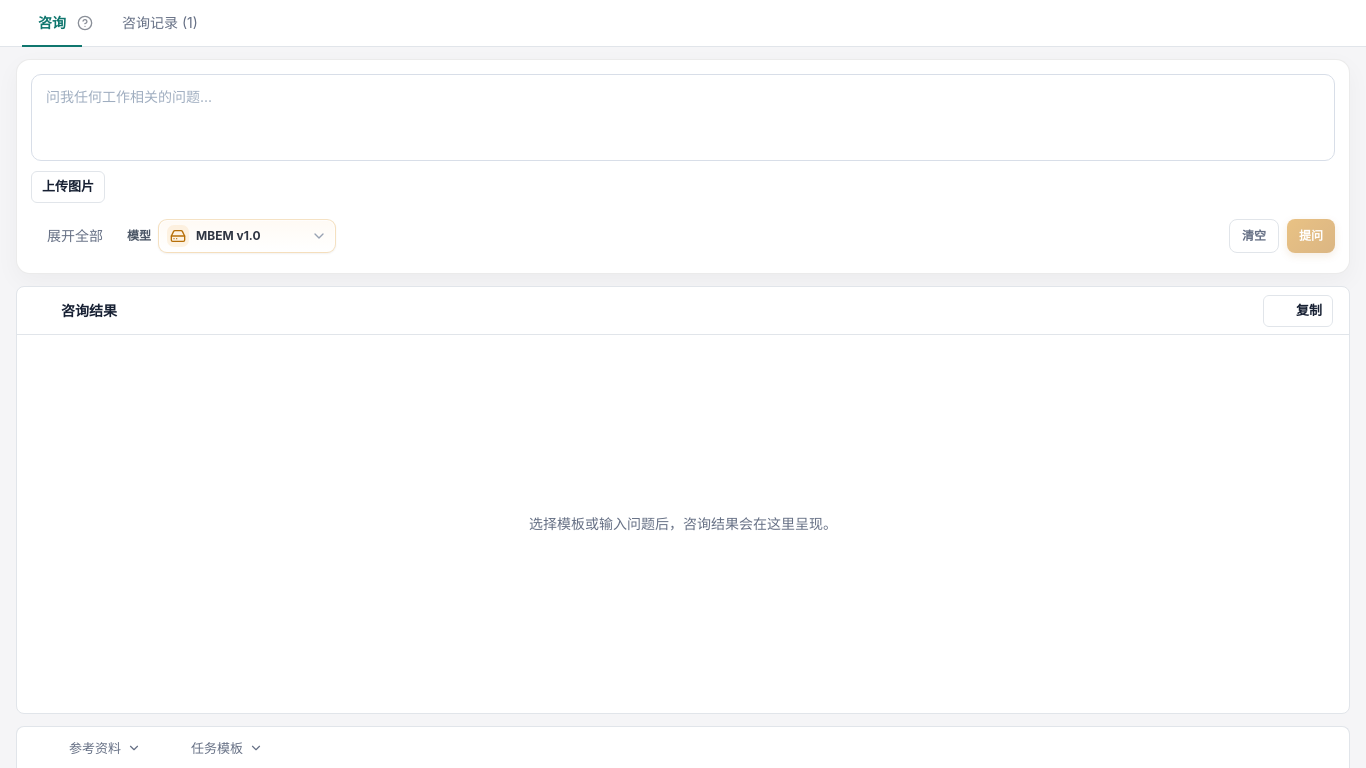
Scenario: 咨询历史截图 › 其他读取错误不误报文件丢失
Click the button "咨询记录 (1)" at (160, 24), box [106,0,214,47]
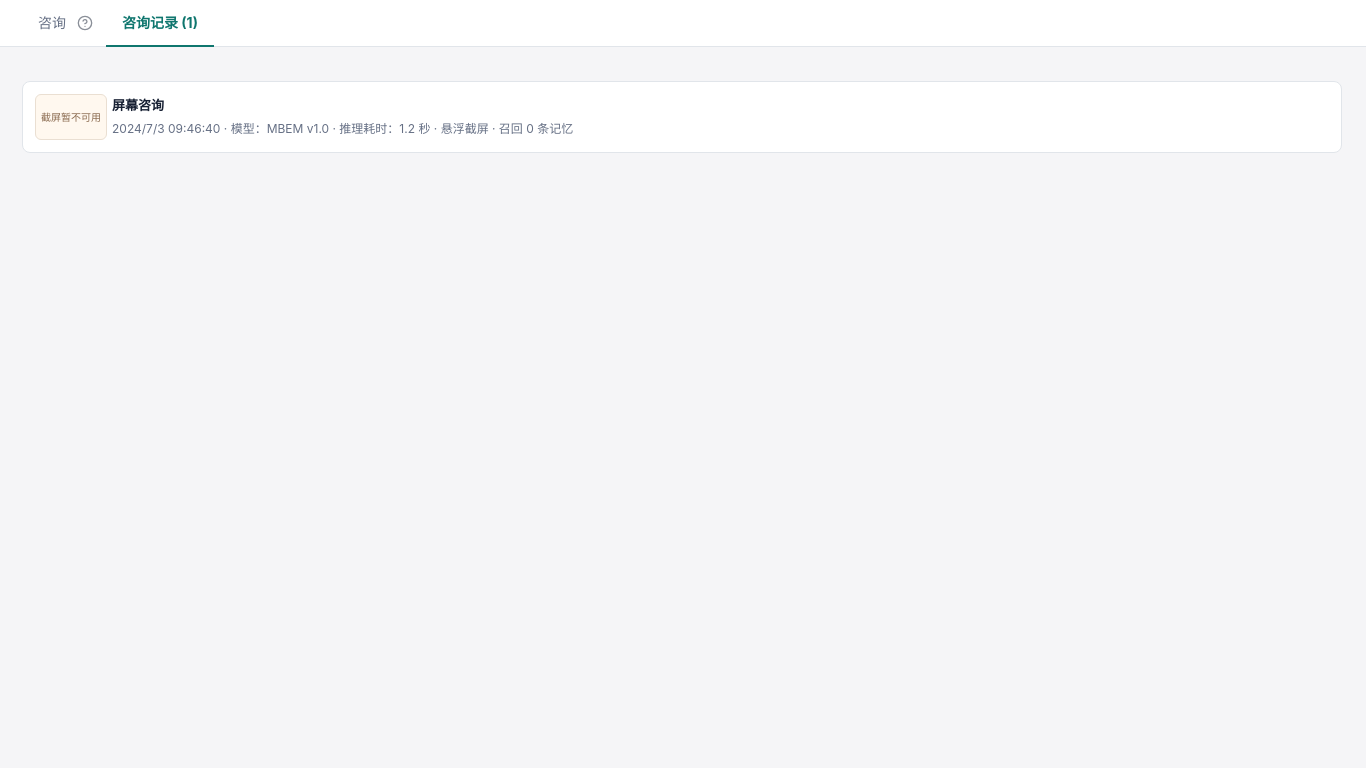
Now the button with aria-label "悬浮球截屏暂不可用" is shown, box [35,94,107,140]
